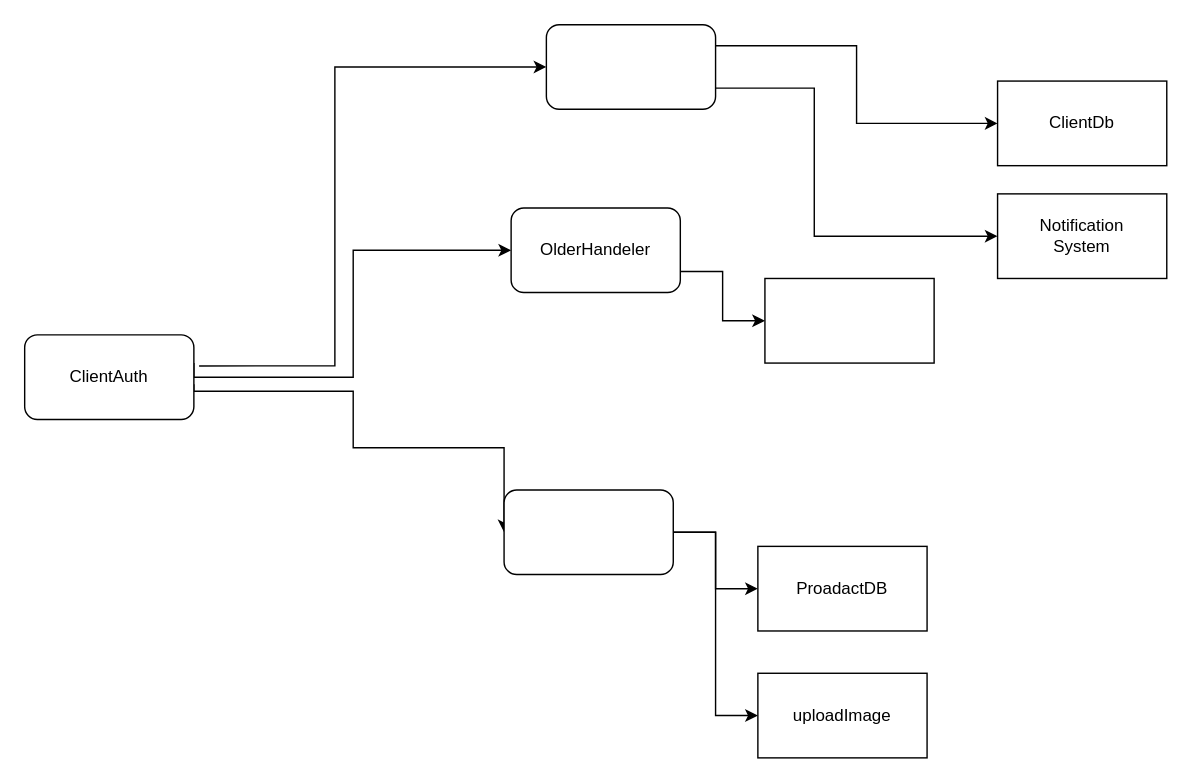
Image size: 1191x783. Some labels were removed from this diagram. Here are the shapes that lost their labels. From the top down, the centre of each, then its label:
[630,66]: ClientHandler
[849,320]: OlderDB
[588,532]: ProdactHandeler
